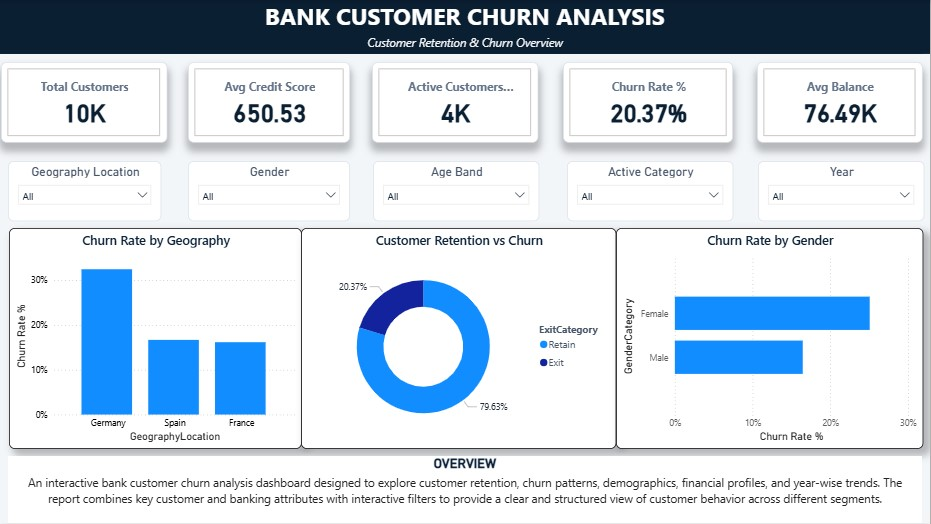

The dashboard page shown, as its layout file describes it:
{"tool":"powerbi","page":{"name":"Overview","canvas":[1280,720],"ordinal":0},"visuals":[{"type":"shape","box":[0,0,1280,74.3],"z":0},{"type":"shape","box":[0,0,1270.4,74.3],"z":1000},{"type":"textbox","title":"BANK CUSTOMER CHURN ANALYSIS","box":[0,0,1280,74.4],"z":2000},{"type":"cardVisual","fields":{"Data":["_Measures.Total Customers"]},"box":[1.3,85.7,228.8,111.1],"z":3000},{"type":"cardVisual","fields":{"Data":["_Measures.Avg Balance"]},"box":[1042.5,85.7,227.5,111.1],"z":4000},{"type":"cardVisual","fields":{"Data":["_Measures.Avg Credit Score"]},"box":[258.3,85.7,223.5,111.1],"z":5000},{"type":"cardVisual","fields":{"Data":["_Measures.Active Customers (Clean)"]},"box":[512.6,85.7,228.8,111.1],"z":6000},{"type":"clusteredColumnChart","title":"Churn Rate by Geography","fields":{"Category":["Geography.GeographyLocation"],"Y":["_Measures.Churn Rate %"]},"box":[12,313.2,402.8,303.8],"z":7000},{"type":"cardVisual","fields":{"Data":["_Measures.Churn Rate %"]},"box":[774.9,85.7,234.2,111.1],"z":8000},{"type":"donutChart","title":"Customer Retention vs Churn","fields":{"Category":["ExitCustomer.ExitCategory"],"Y":["_Measures.Total Customers"]},"box":[414.9,313.2,433.6,303.8],"z":9000},{"type":"barChart","title":"Churn Rate by Gender","fields":{"Category":["Gender.GenderCategory"],"Y":["_Measures.Churn Rate %"]},"box":[848.5,313.2,422.9,303.8],"z":10000},{"type":"slicer","title":"Geography Location","fields":{"Values":["Geography.GeographyLocation"]},"box":[11.4,221.4,211.4,82.9],"z":11000},{"type":"slicer","title":"Gender","fields":{"Values":["Gender.GenderCategory"]},"box":[258.6,221.4,222.9,82.9],"z":12000},{"type":"slicer","title":"Age Band","fields":{"Values":["Bank_Churn.Age Band"]},"box":[512.9,221.4,228.6,82.9],"z":13000},{"type":"slicer","title":"Active Category","fields":{"Values":["ActiveCustomer.ActiveCategory"]},"box":[780,221.4,228.6,82.9],"z":14000},{"type":"slicer","title":"Year","fields":{"Values":["DateTable.Year"]},"box":[1042.9,221.4,228.6,82.9],"z":15000},{"type":"textbox","title":"OVERVIEW","box":[11,627.6,1258,92.2],"z":16000}]}

Visuals, with their boxes in screenshot pixels (x1, y1, x2, y2), scaled from the page's 1280x720 canvas onto the 931x524 screenshot:
shape: select_region(0, 0, 930, 54)
shape: select_region(0, 0, 924, 54)
"BANK CUSTOMER CHURN ANALYSIS" textbox: select_region(0, 0, 930, 54)
cardVisual - _Measures.Total Customers: select_region(1, 62, 167, 143)
cardVisual - _Measures.Avg Balance: select_region(758, 62, 924, 143)
cardVisual - _Measures.Avg Credit Score: select_region(188, 62, 350, 143)
cardVisual - _Measures.Active Customers (Clean): select_region(373, 62, 539, 143)
"Churn Rate by Geography" clusteredColumnChart: select_region(9, 228, 302, 449)
cardVisual - _Measures.Churn Rate %: select_region(564, 62, 734, 143)
"Customer Retention vs Churn" donutChart: select_region(302, 228, 617, 449)
"Churn Rate by Gender" barChart: select_region(617, 228, 925, 449)
"Geography Location" slicer: select_region(8, 161, 162, 221)
"Gender" slicer: select_region(188, 161, 350, 221)
"Age Band" slicer: select_region(373, 161, 539, 221)
"Active Category" slicer: select_region(567, 161, 734, 221)
"Year" slicer: select_region(759, 161, 925, 221)
"OVERVIEW" textbox: select_region(8, 457, 923, 523)
